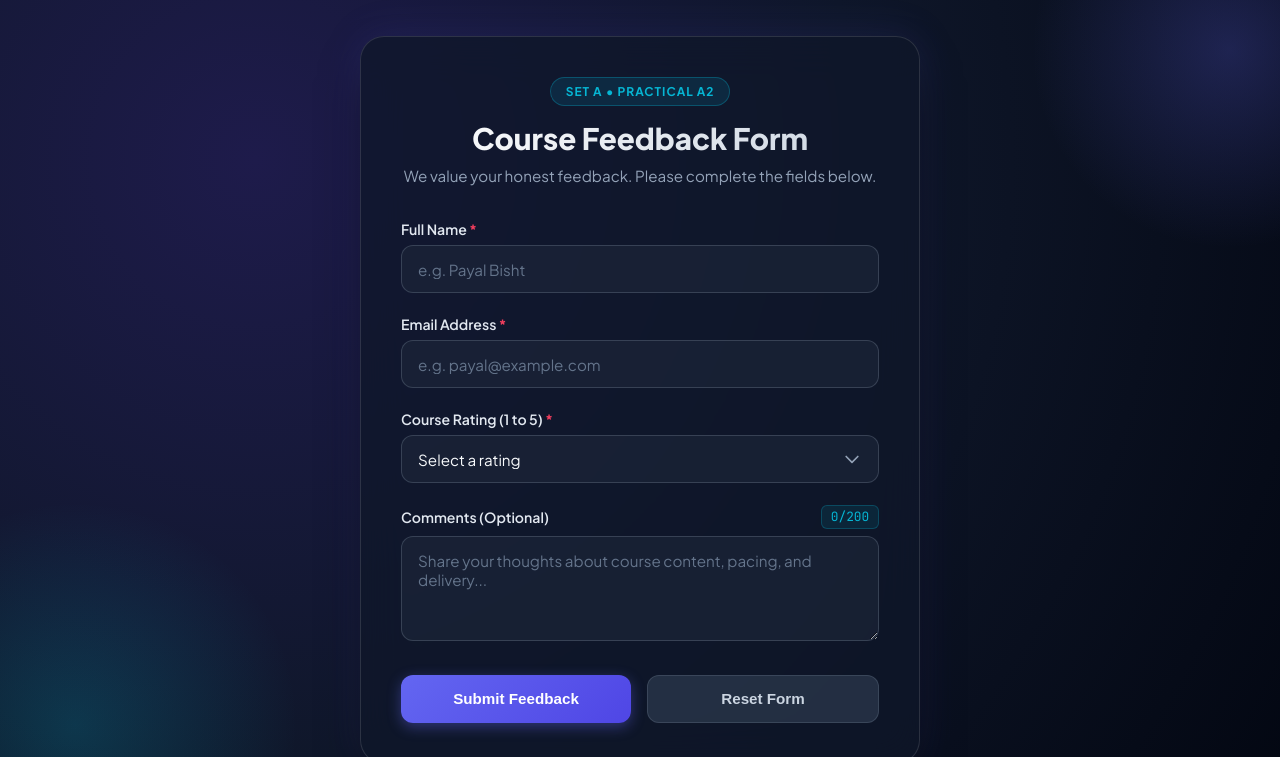
Test case: Practical A2: Feedback Form with Validation (React) › shows success message with exact text "Thank you, {name}! Feedback submitted." upon valid submission
Type "Payal Bisht" into the field with test id "name-input" at (640, 269), box [401,245,879,294]
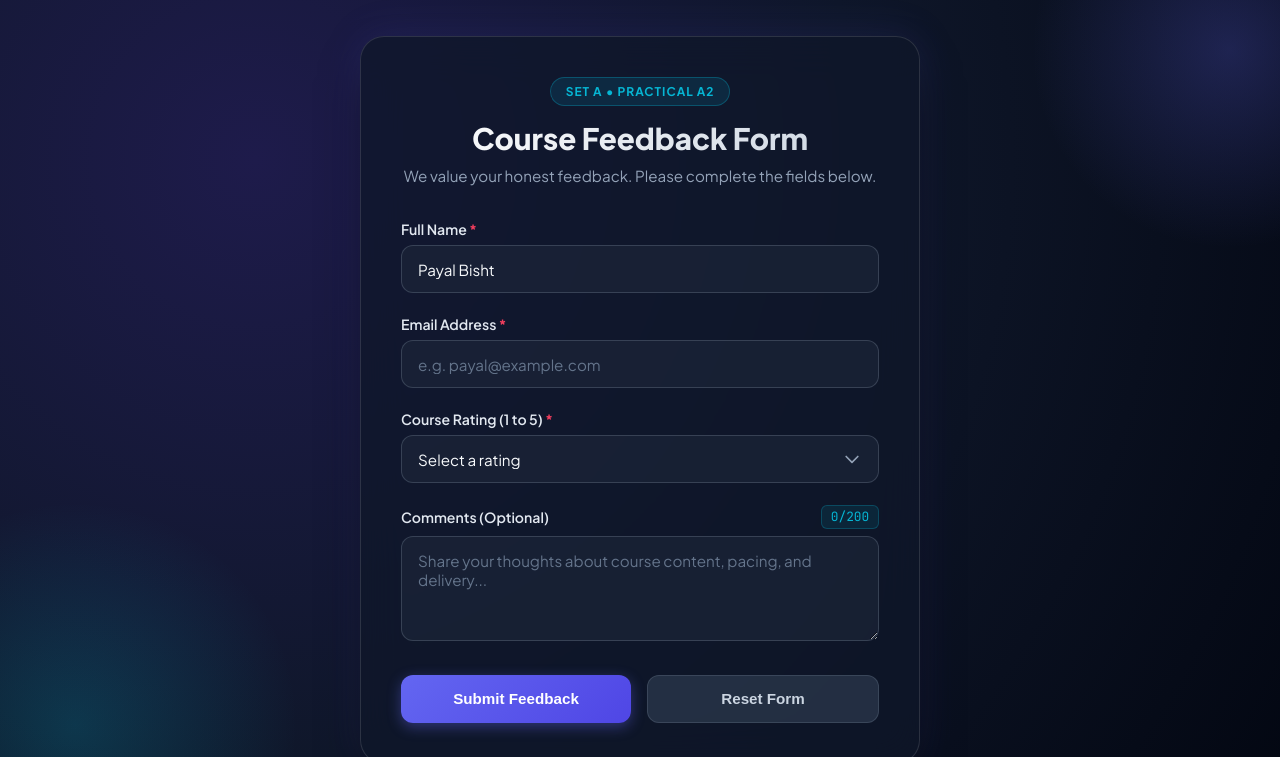
Type "payal@example.com" into the field with test id "email-input" at (640, 364), box [401,340,879,388]
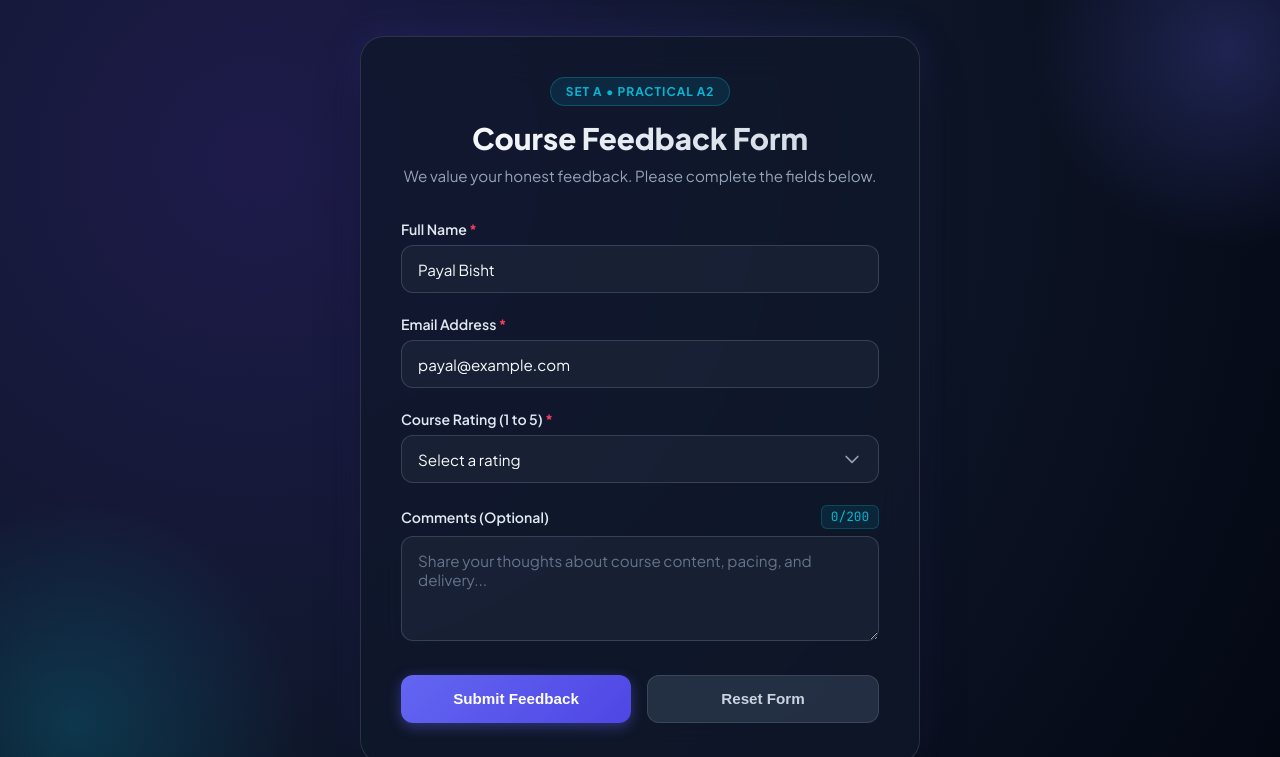
Select "5" in the dropdown with test id "rating-select" at (640, 459), box [401,435,879,483]
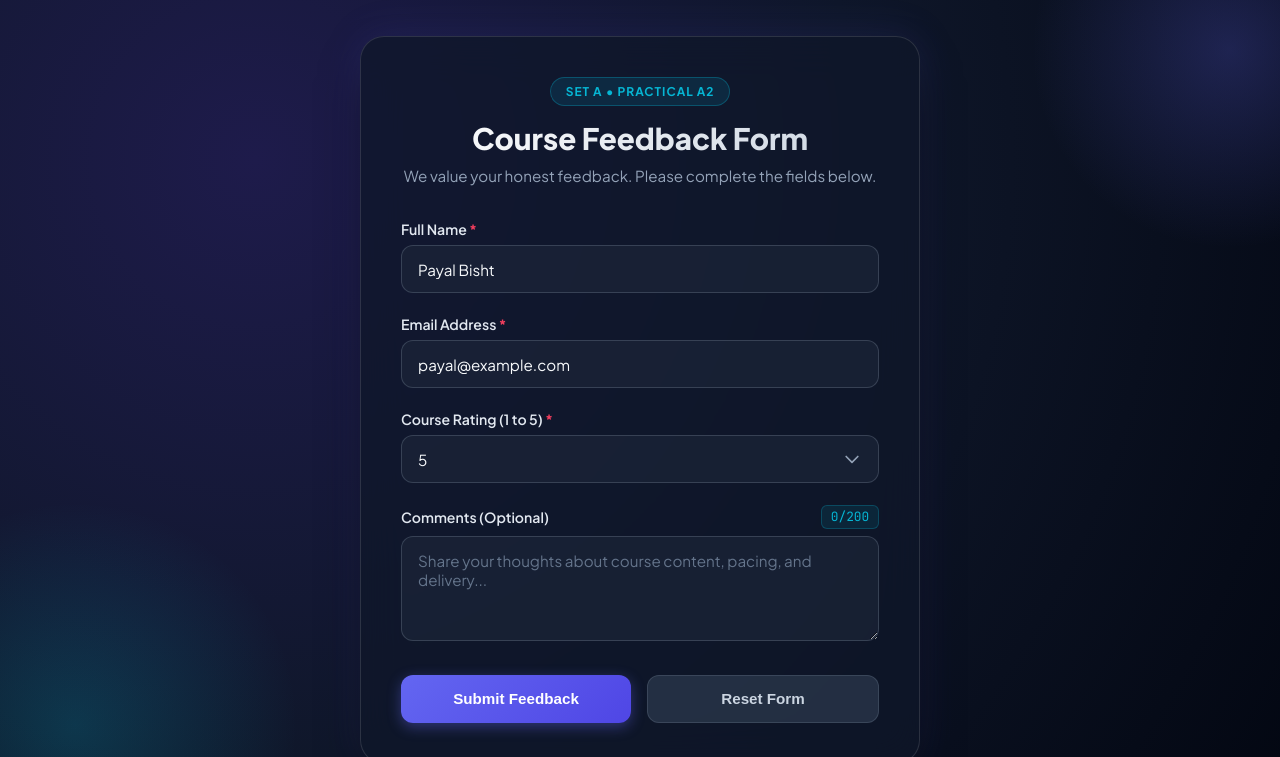
Replace the text in the text box with test id "comment-input" with "Wonderful practical test!" at (640, 588), box [401,536,879,641]
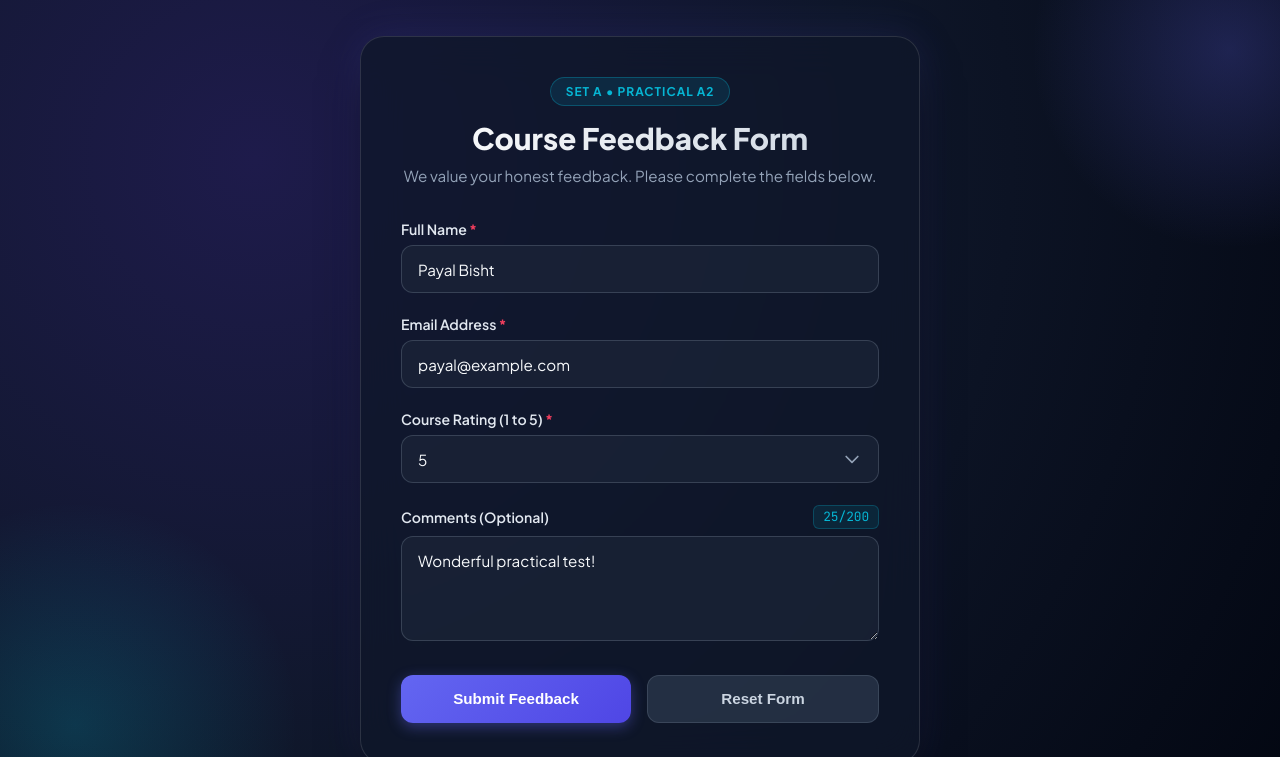
Click the button with test id "submit-btn" at (516, 699), box [401,675,631,722]
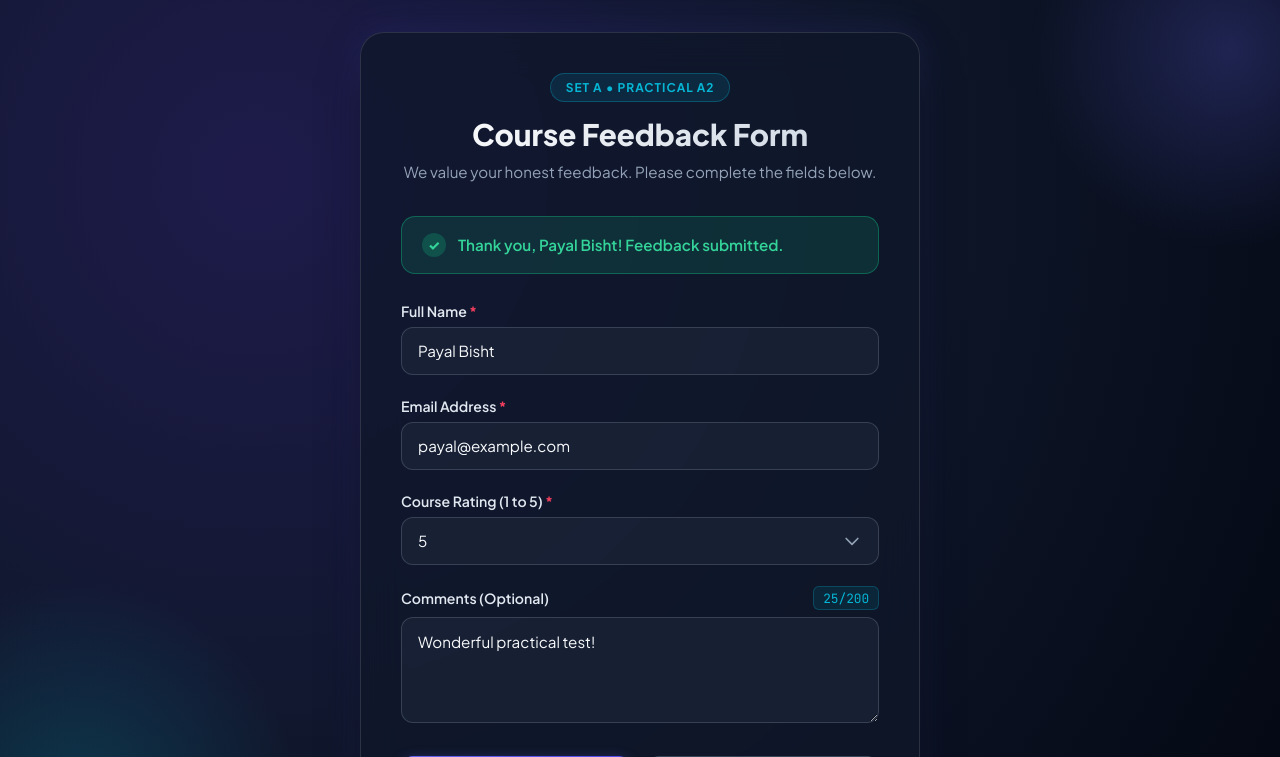
Expected: the element with test id "success-msg" shows "Thank you, Payal Bisht! Feedback submitted.", [401,216,879,274]
